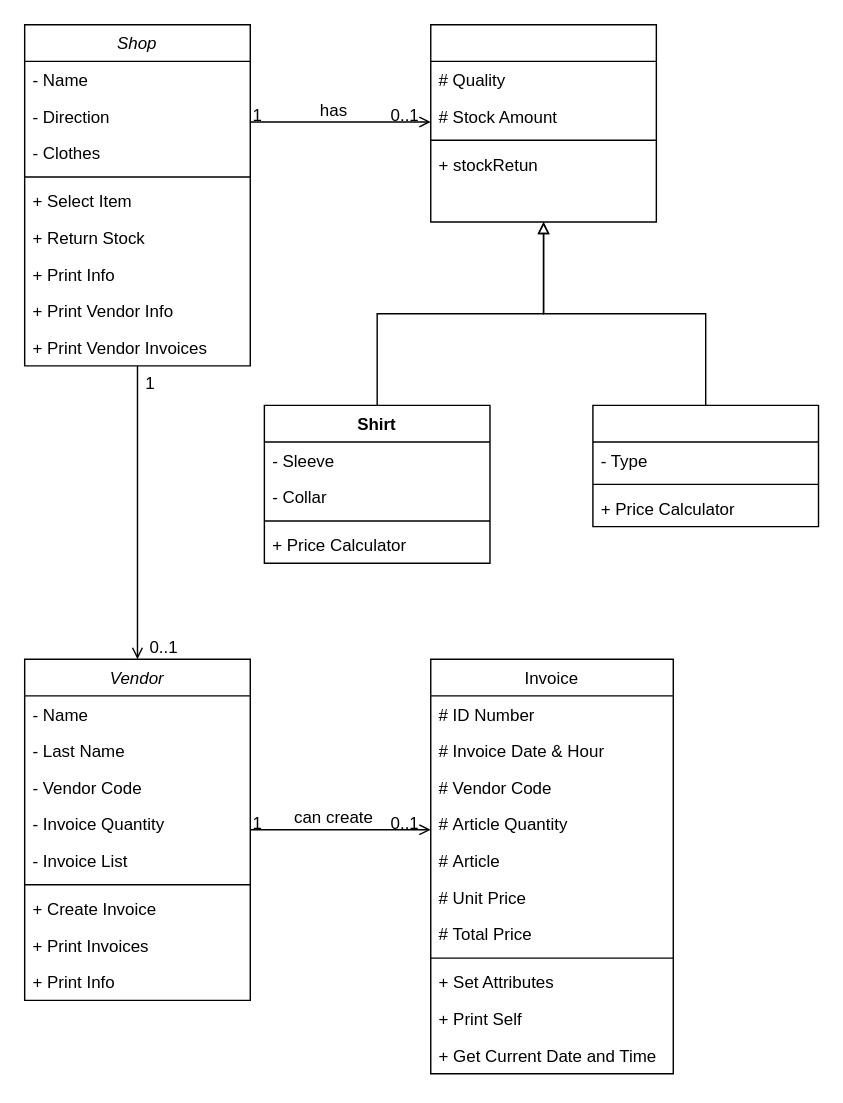
The diagram is 843 pixels wide and 1103 high, and some of its shapes have lost their labels. Each missing label, with the box of its shape:
Clothing: (429, 23, 656, 222)
Pant: (591, 404, 819, 527)
